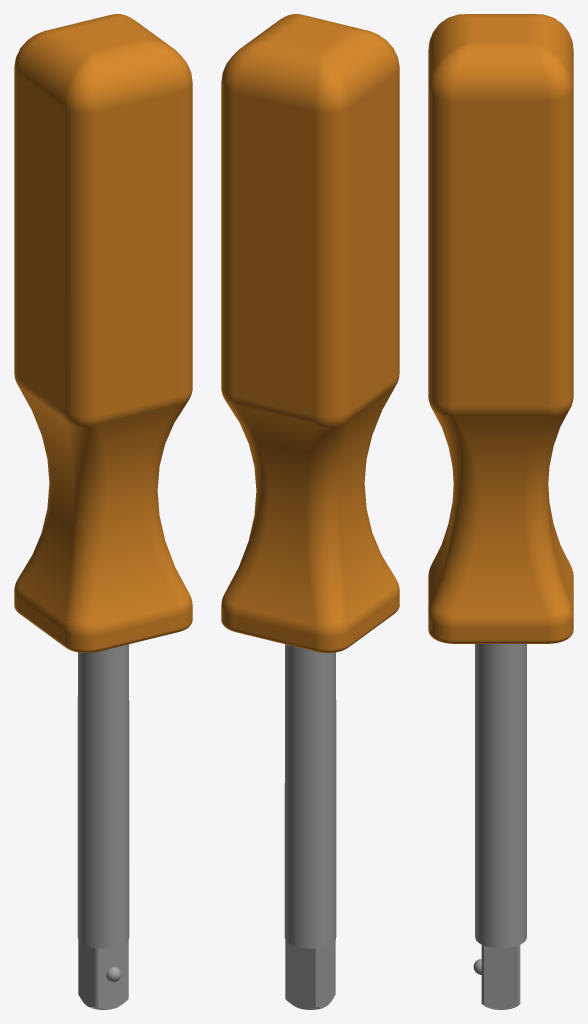
The model's file is XuanBing_M.FBX.
3 views of the same model, side by side, from view 1: azimuth 30°, elevation 25°; view 2: azimuth 150°, elevation 25°; view 3: azimuth 270°, elevation 25° (orthographic).
Visible parts, largest first — view 1: XuanBing_M; view 2: XuanBing_M; view 3: XuanBing_M.
Boxes of the visible parts, x1=… form: XuanBing_M: x1=14, y1=14, x2=192, y2=1009; XuanBing_M: x1=221, y1=14, x2=399, y2=1009; XuanBing_M: x1=428, y1=14, x2=573, y2=1009.
Bounding box in the file's own units: 1.8 × 13.28 × 1.8.
